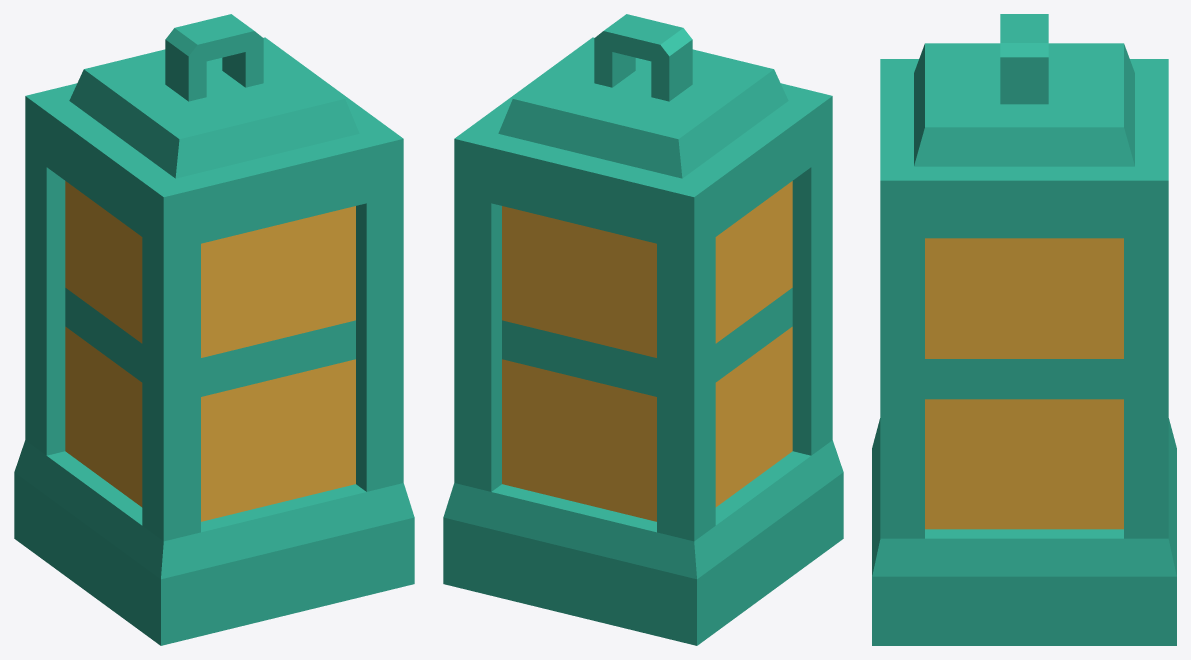
The model's file is lanternGlass.fbx.
3 renders of one model, left to right at view 1: azimuth 30°, elevation 25°; view 2: azimuth 150°, elevation 25°; view 3: azimuth 270°, elevation 25°, orthographic. The views are drawn at different scales.
Parts seen in each view (by area): view 1: lanternGlass; view 2: lanternGlass; view 3: lanternGlass.
Boxes of the visible parts, bbox=[...] form: lanternGlass: bbox=[14, 14, 414, 645]; lanternGlass: bbox=[443, 14, 843, 645]; lanternGlass: bbox=[872, 14, 1176, 645].
Bounding box in the file's own units: 1.46 × 2.92 × 1.46.
